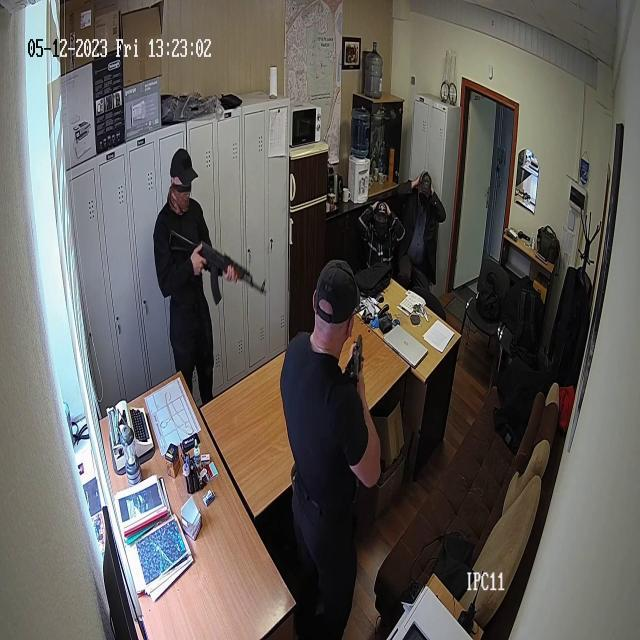pistol: (189, 215, 269, 306), (352, 328, 370, 390)
